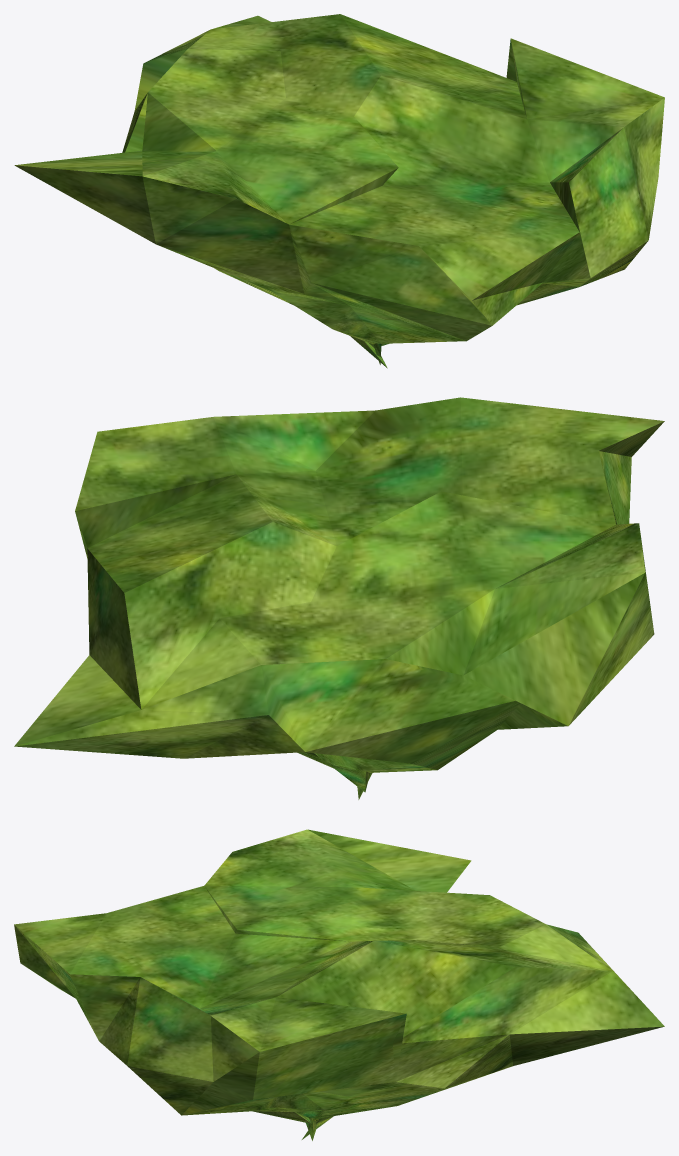
File: shrub1.dae
The picture shows the model from 3 angles, top to bottom: view 1: azimuth 30°, elevation 25°; view 2: azimuth 150°, elevation 25°; view 3: azimuth 270°, elevation 25°; orthographic projection. The views are drawn at different scales.
Parts seen in each view (by area): view 1: shrub_template1_023; view 2: shrub_template1_023; view 3: shrub_template1_023.
Boxes of the visible parts, box(x1,y1,x2,y2) form: shrub_template1_023: box(14, 14, 664, 368); shrub_template1_023: box(14, 397, 664, 799); shrub_template1_023: box(14, 829, 664, 1140).
Bounding box in the file's own units: 4.8 × 6.06 × 2.22.
